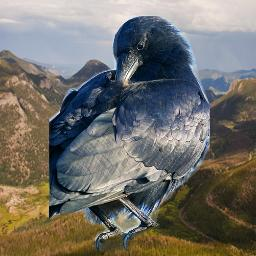Crow: (49, 15, 210, 251)
